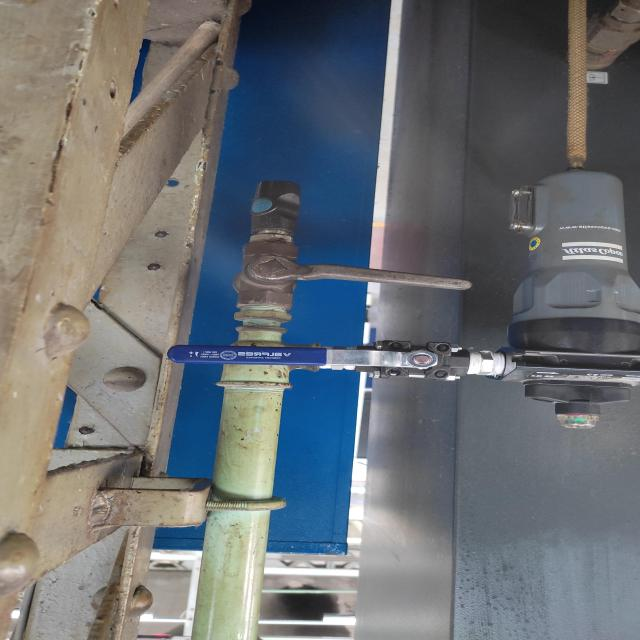closed_valve: (230, 239, 474, 311)
opened_valve: (165, 338, 473, 381)
